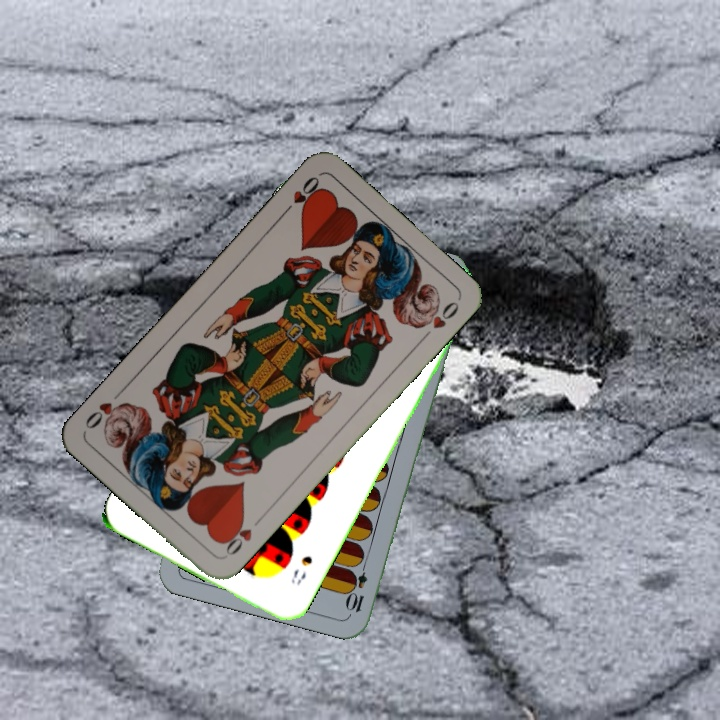E10: (344, 556, 371, 615)
HO: (277, 172, 324, 219), (217, 512, 265, 558)
S8: (287, 551, 315, 588)
